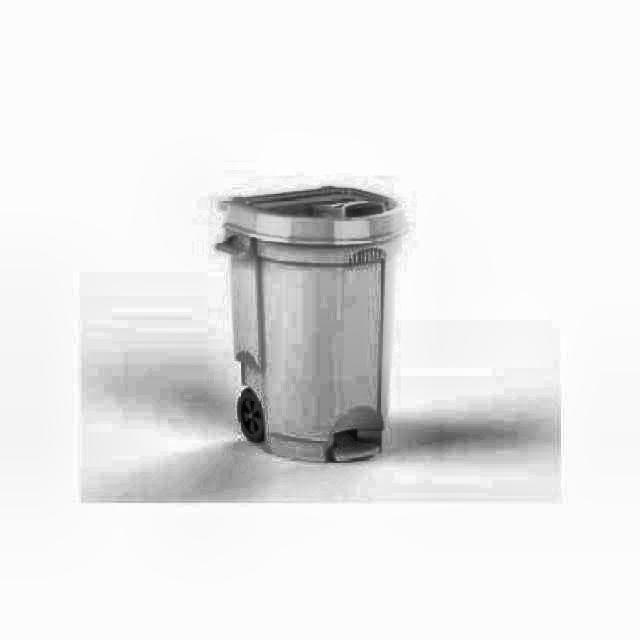Dustbin: (204, 165, 410, 484)
